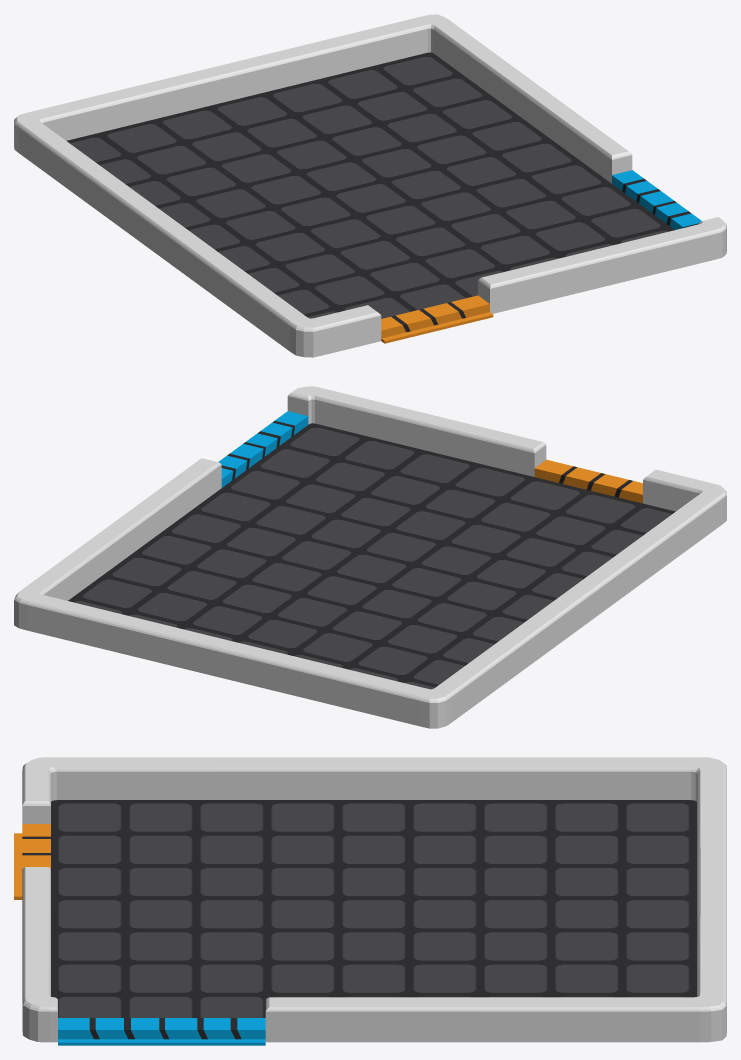
File: Wall.fbx
The picture shows the model from 3 angles, top to bottom: view 1: azimuth 30°, elevation 25°; view 2: azimuth 150°, elevation 25°; view 3: azimuth 270°, elevation 25°; orthographic projection. The views are drawn at different scales.
Visible parts, largest first — view 1: Wall; view 2: Wall; view 3: Wall.
Part boxes in pixels (x1,y1,x2,y2): Wall: [14, 14, 726, 357]; Wall: [14, 386, 726, 728]; Wall: [14, 757, 726, 1045].
Bounding box in the file's own units: 821 × 51.32 × 968.
